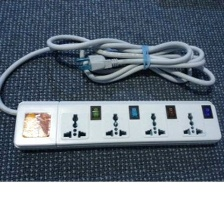three_eye_plug: (10, 99, 224, 153)
